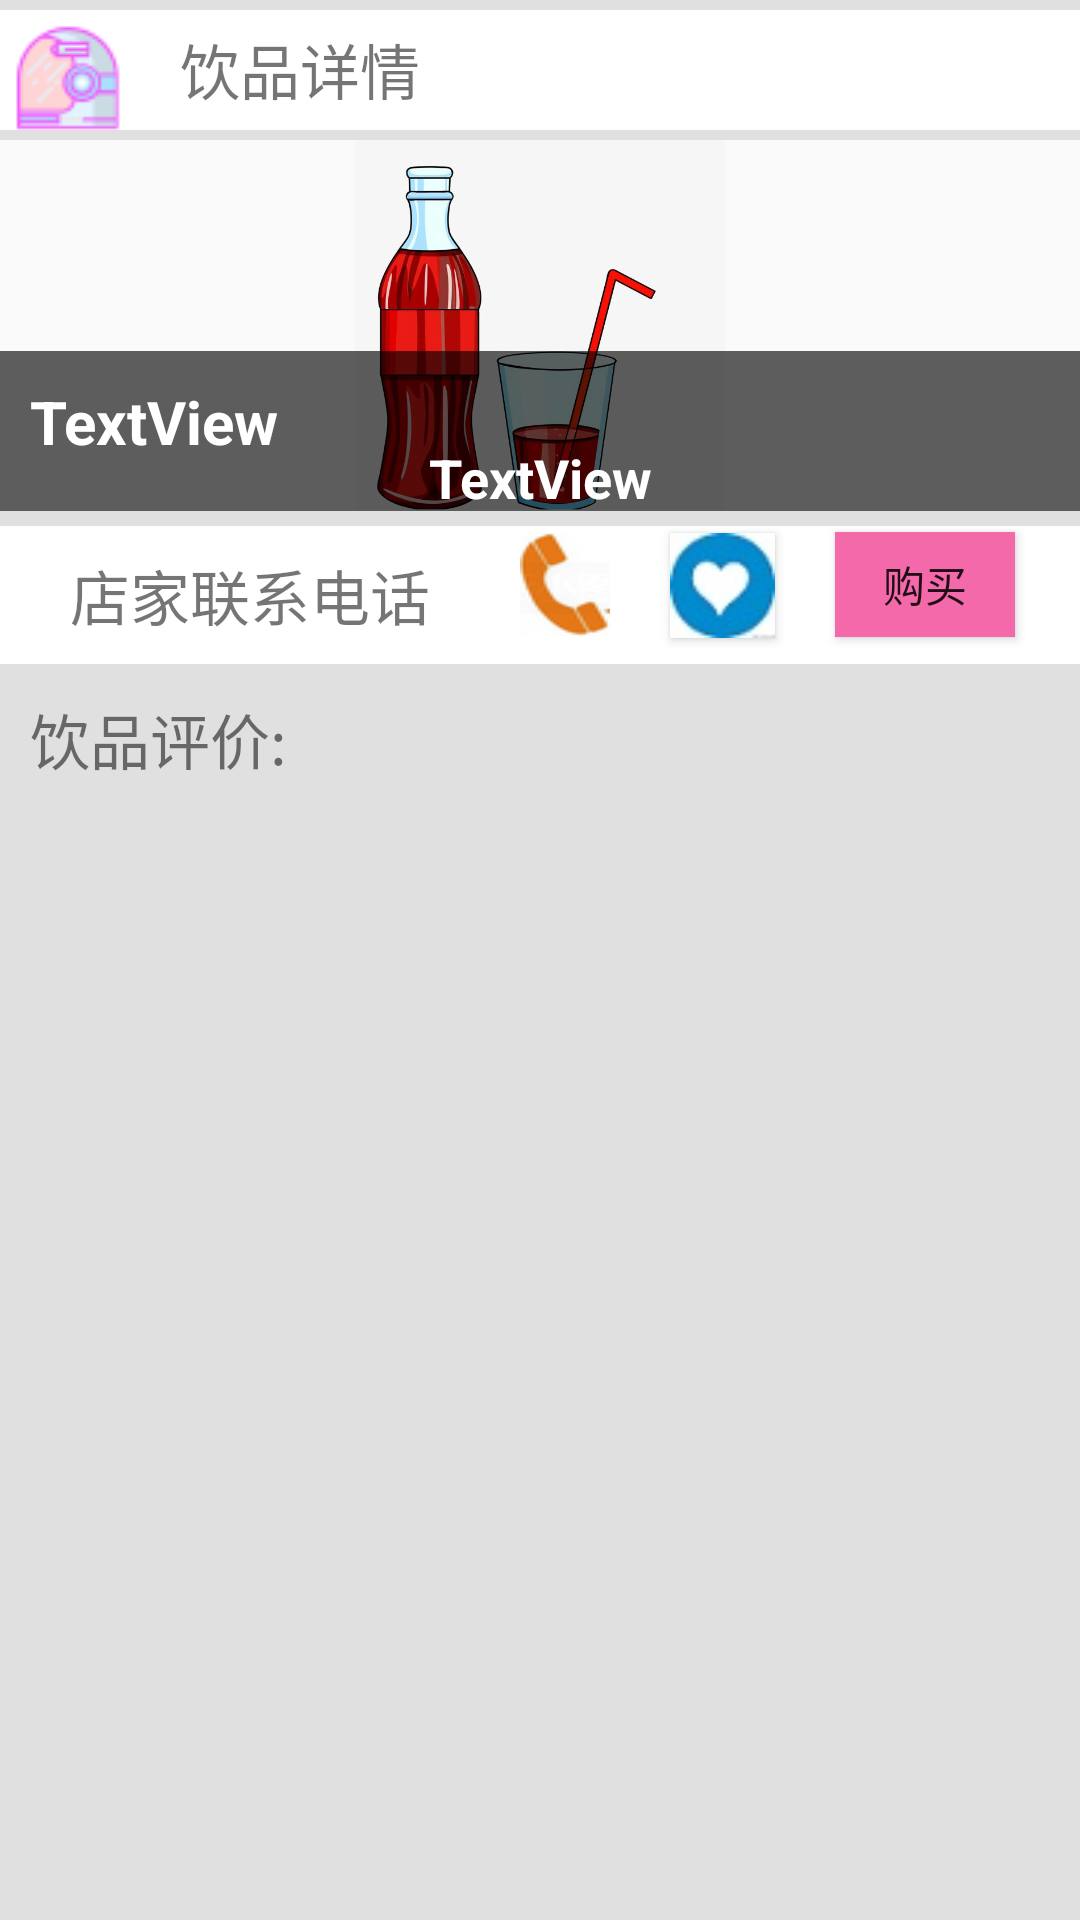

Screen size 1080 × 1920. Icon name, then its box in pixels as (x1, y1, x2, y2):
foo phone: (520, 533, 610, 635)
